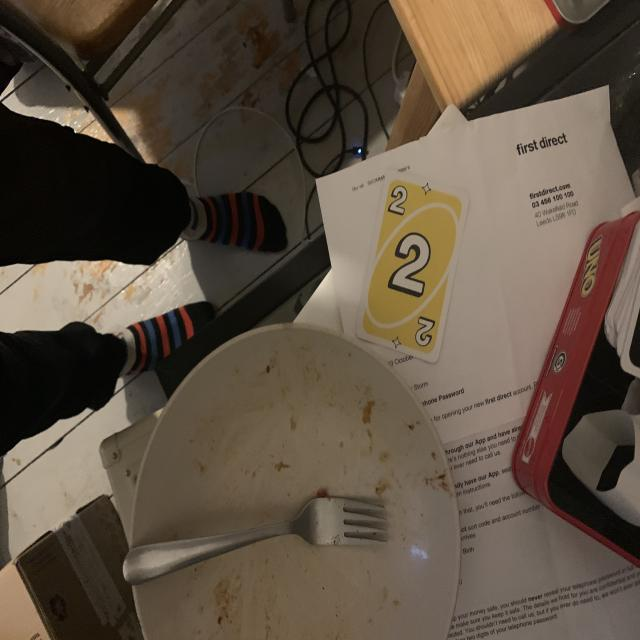lyellow-2: (387, 182, 411, 220)
